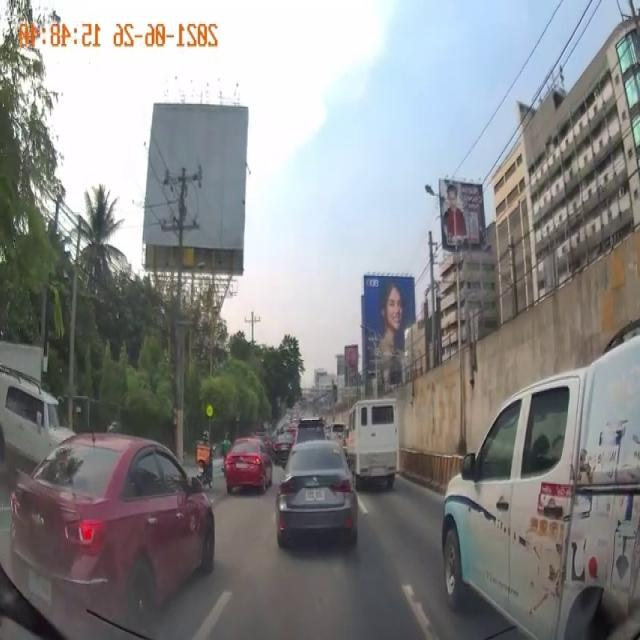car: (439, 361, 640, 609), (8, 454, 209, 619), (274, 440, 358, 547), (352, 392, 399, 485), (222, 437, 271, 506)
motorcycle: (193, 434, 215, 482)
